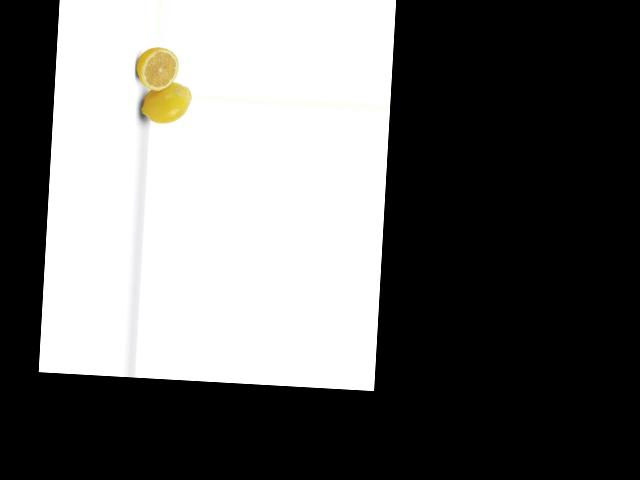lemon: (137, 78, 193, 128)
